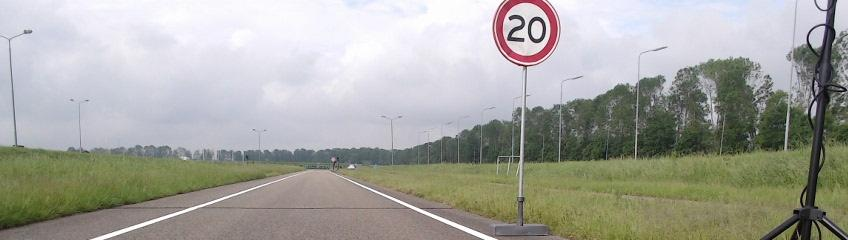Speed-limit-20km-h-: (493, 0, 560, 66)
